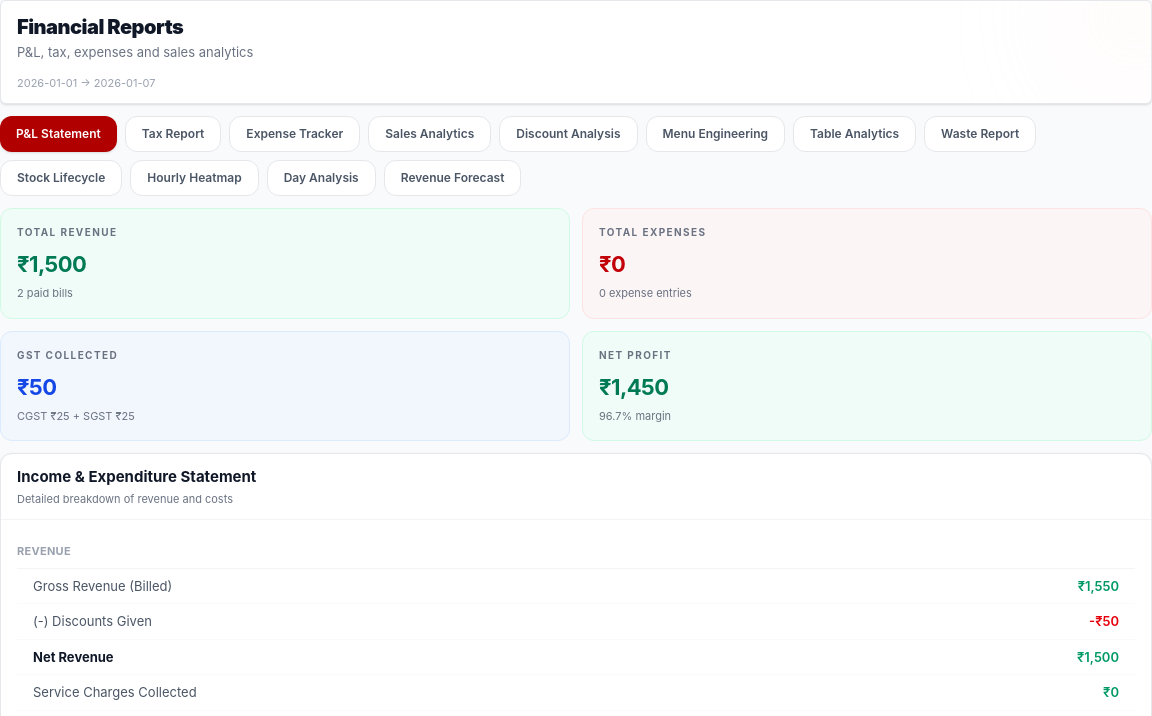
it: Reports page — characterisation › renders the Menu Engineering tab's own content
Click the button "Menu Engineering": (715, 134) [646,116,785,152]
(page scrolled)
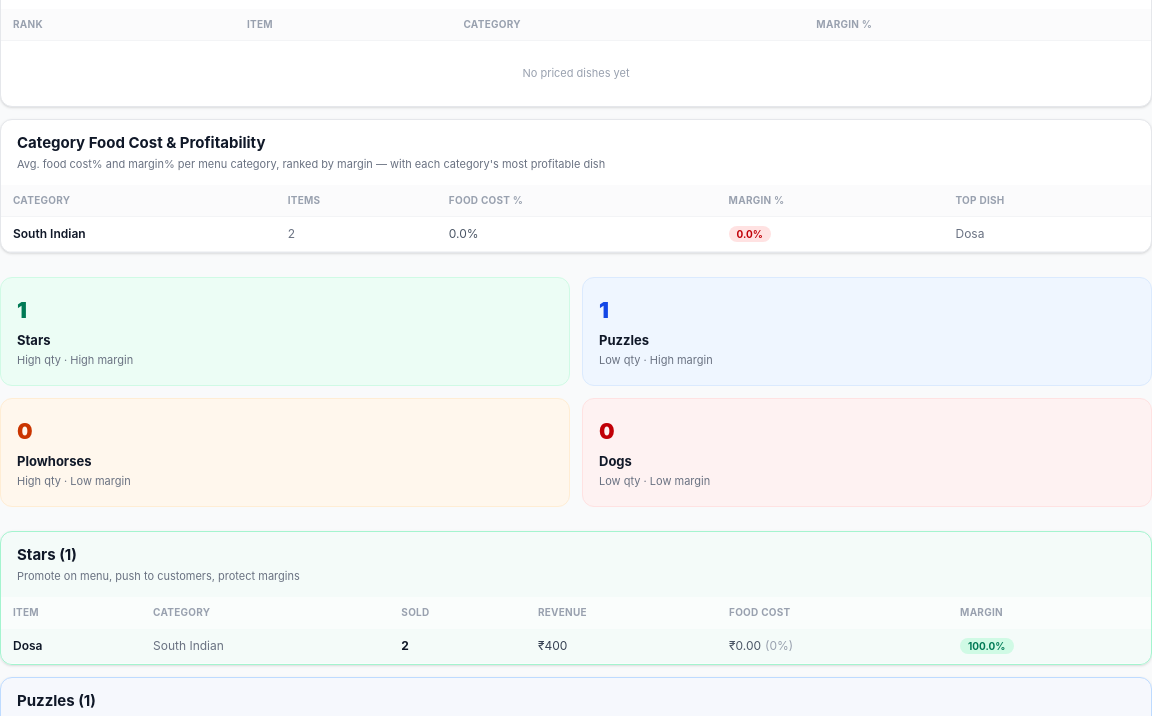
Result: the text "High qty · High margin" is shown at [17,353,133,367]
